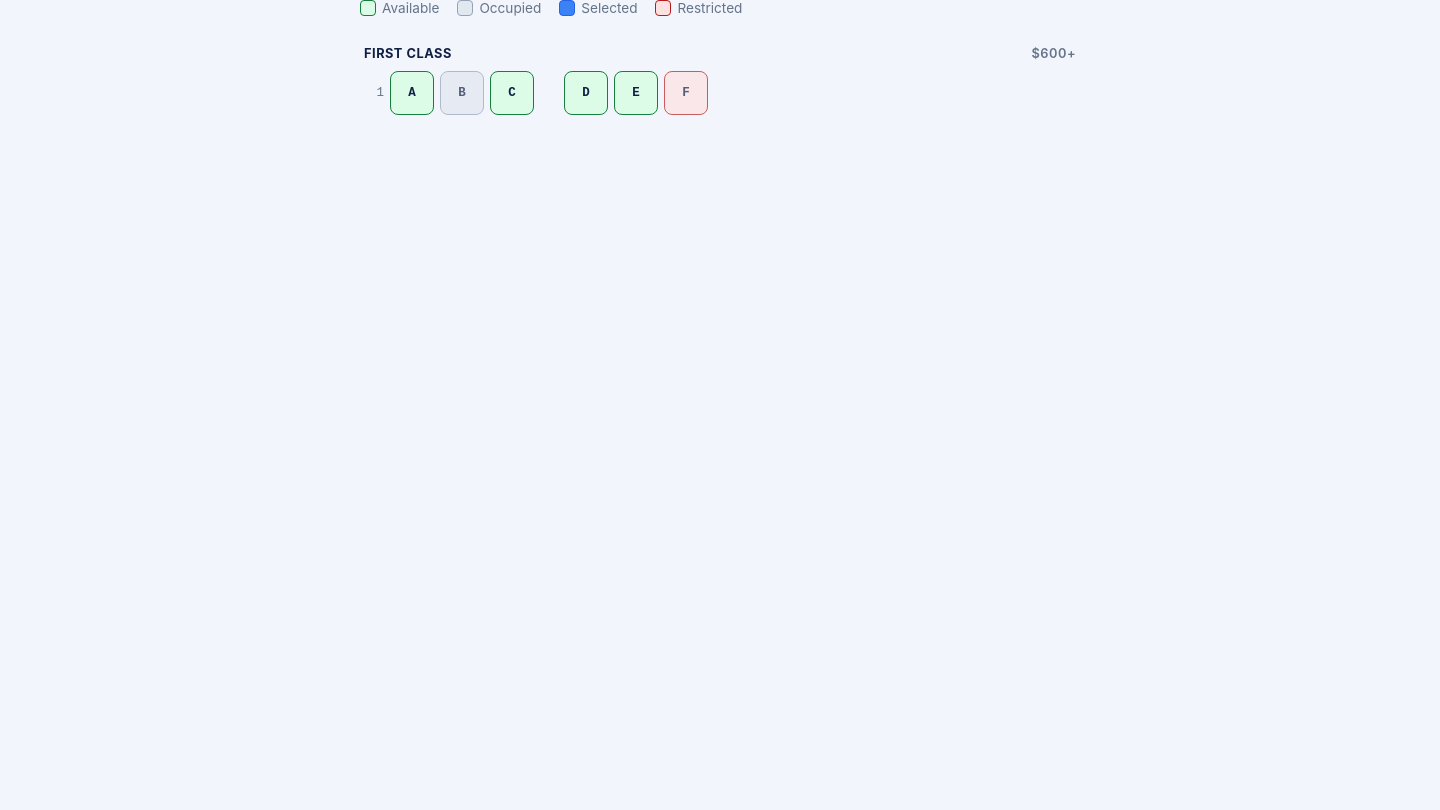
Test: SeatMap Component › adding a seat moves it into the selected-seats cart with running total
The width and height of the screenshot is (1440, 810).
Click the button titled "1A - First Class" at (412, 93), box [390,71,434,115]
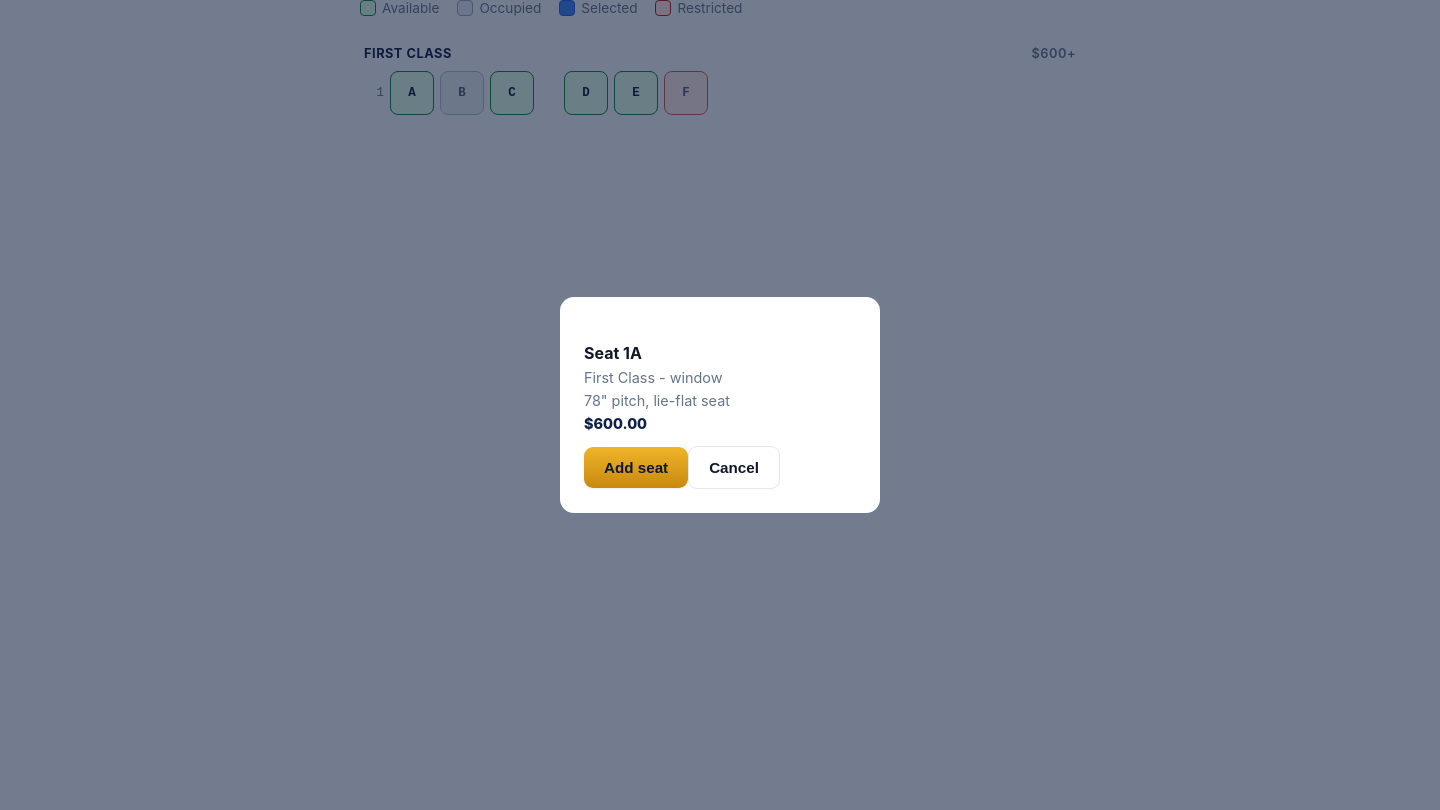
Click the button "Add seat" at (636, 467), box [584,447,688,488]
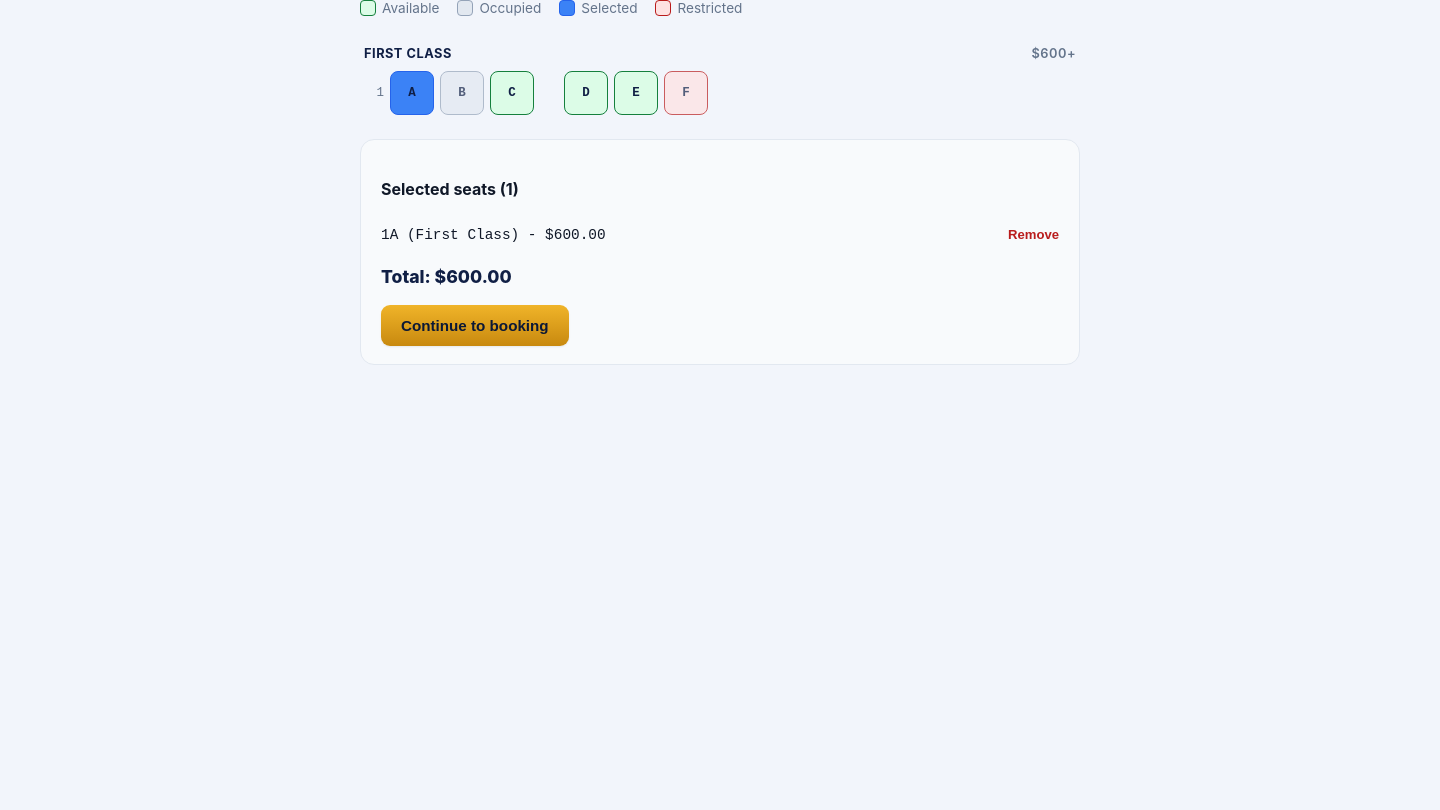
Expected: the heading "Selected seats (1)" is shown, [381,179,519,199]
Expected: the text "Total: $600.00" is shown, [381,266,512,287]
